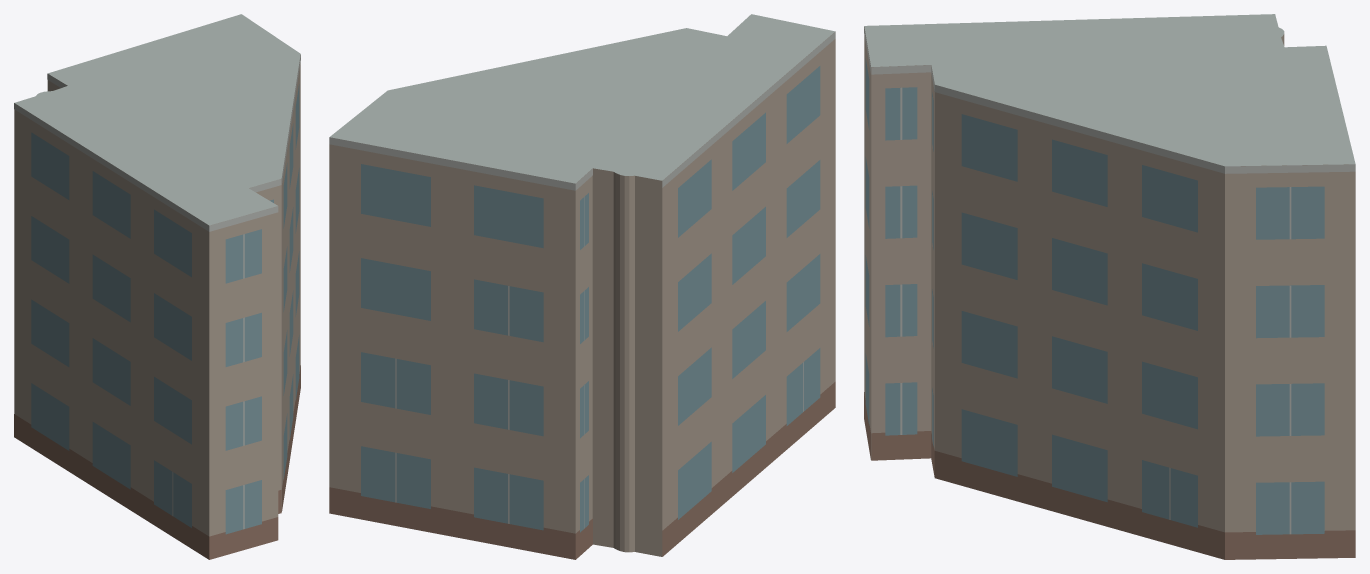
File: survey-upis-33010502.glb
The picture shows the model from 3 angles, left to right: view 1: azimuth 30°, elevation 25°; view 2: azimuth 150°, elevation 25°; view 3: azimuth 270°, elevation 25°; orthographic projection. The views are drawn at different scales.
Visible parts, largest first — view 1: survey-upis-33010502.tmp; view 2: survey-upis-33010502.tmp; view 3: survey-upis-33010502.tmp.
Boxes of the visible parts, box(x1,y1,x2,y2) form: survey-upis-33010502.tmp: box(14, 14, 300, 559); survey-upis-33010502.tmp: box(329, 14, 835, 559); survey-upis-33010502.tmp: box(864, 14, 1355, 559).
Bounding box in the file's own units: 10.68 × 12.85 × 14.55.
